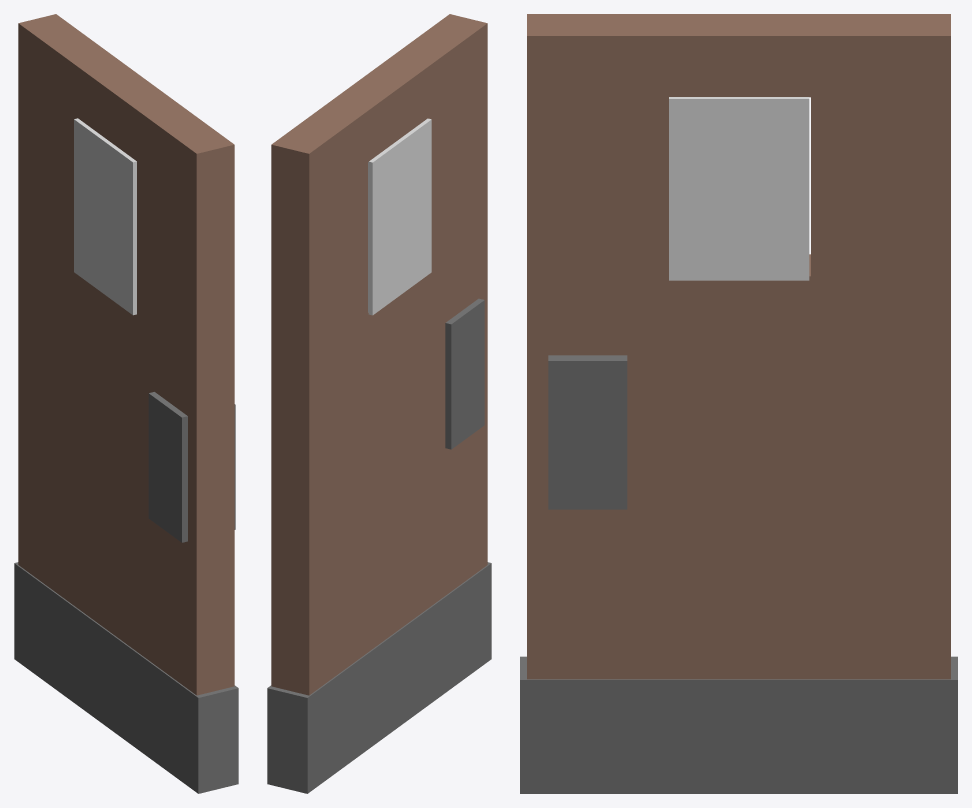
File: Door.fbx
3 renders of one model, left to right at view 1: azimuth 30°, elevation 25°; view 2: azimuth 150°, elevation 25°; view 3: azimuth 270°, elevation 25°, orthographic. The views are drawn at different scales.
Visible parts, largest first — view 1: Cube, Cube.002, Cube.003, Cube.001; view 2: Cube, Cube.002, Cube.003, Cube.001; view 3: Cube, Cube.002, Cube.003, Cube.001.
Part boxes in pixels (x1,y1,x2,y2): Cube: (18, 14, 234, 695); Cube.002: (14, 562, 238, 793); Cube.003: (74, 118, 136, 315); Cube.001: (148, 392, 235, 542); Cube: (271, 14, 487, 695); Cube.002: (267, 562, 491, 793); Cube.003: (368, 118, 431, 315); Cube.001: (445, 298, 484, 449); Cube: (527, 14, 950, 679); Cube.002: (520, 656, 957, 793); Cube.003: (669, 97, 809, 280); Cube.001: (548, 355, 627, 509).
Size of the model in its own units: 64.09 by 729 by 382.
Materials: 2 (2 with a texture image).
